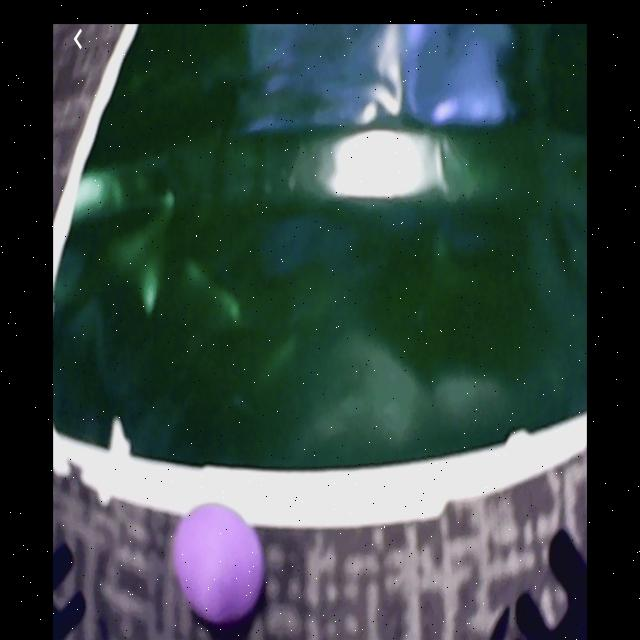ball: (177, 504, 264, 626)
